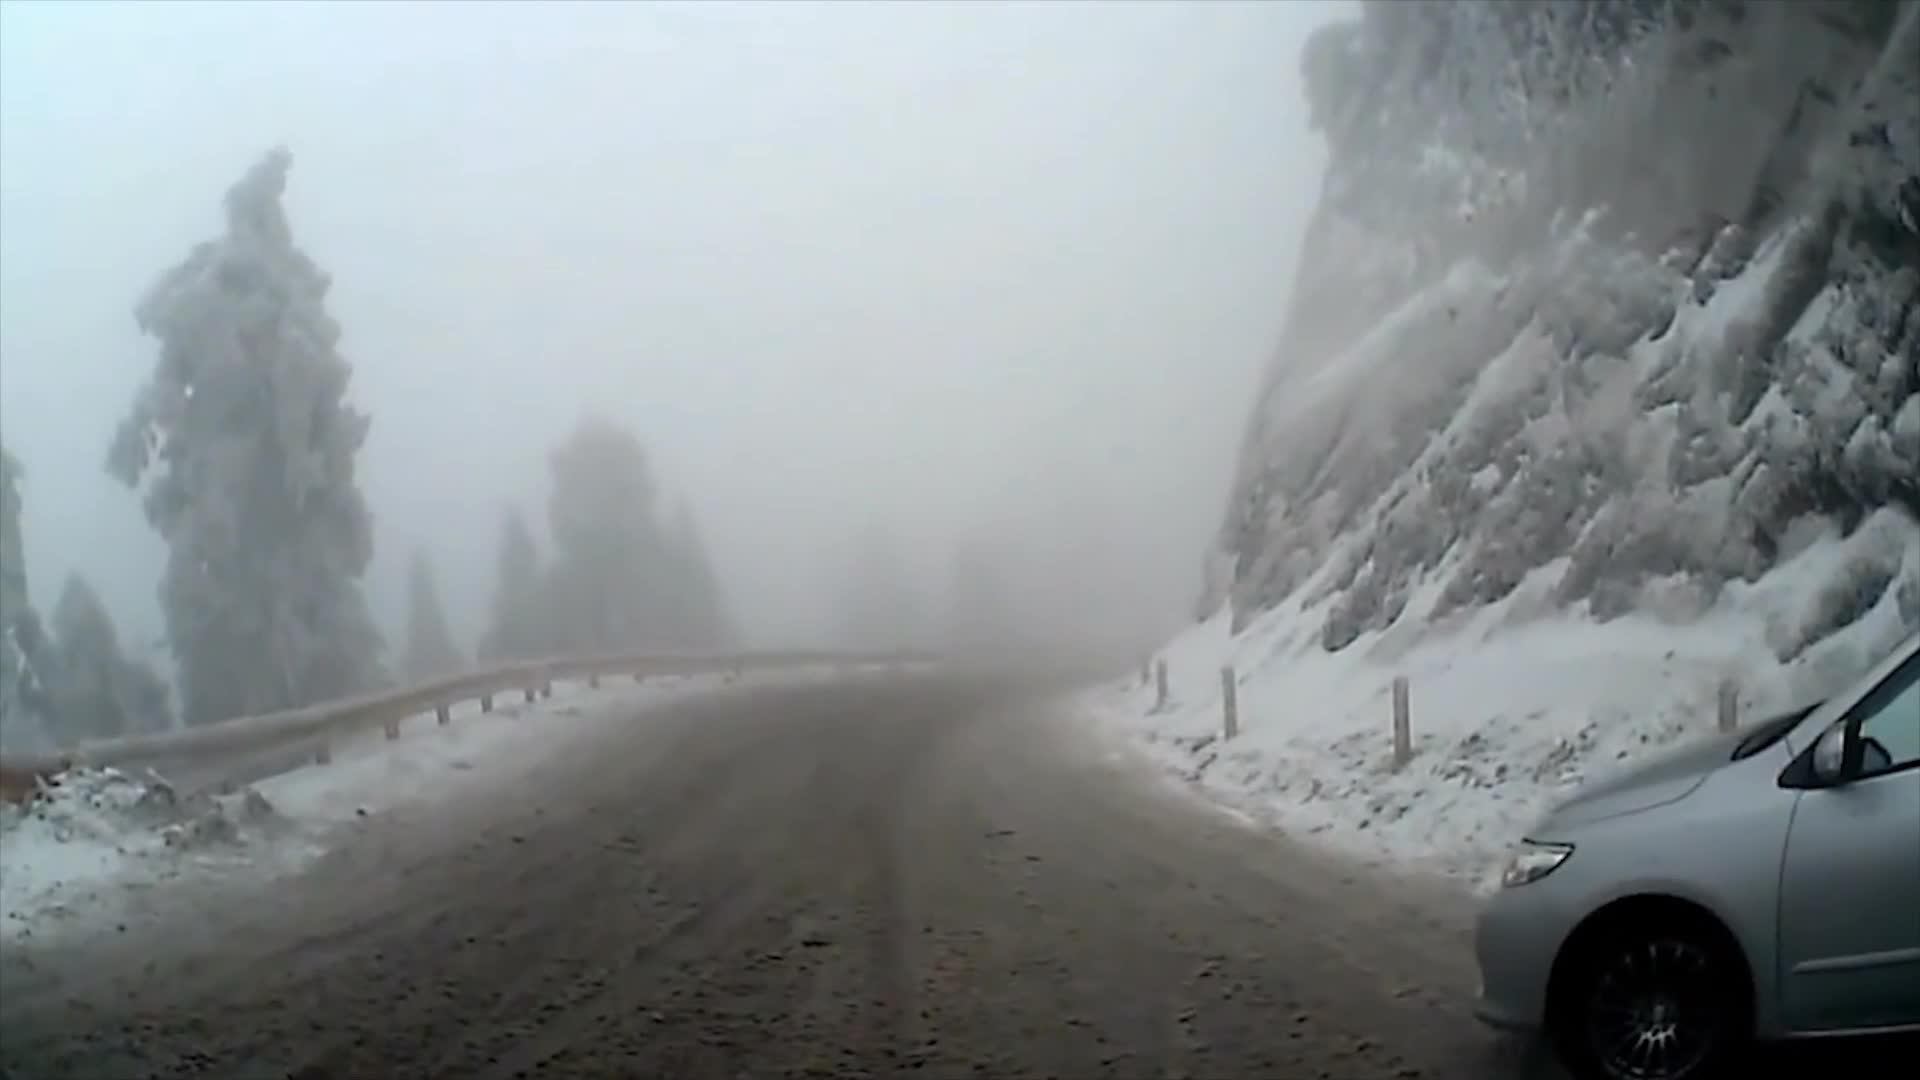vehicle: (1472, 621, 1920, 1080)
